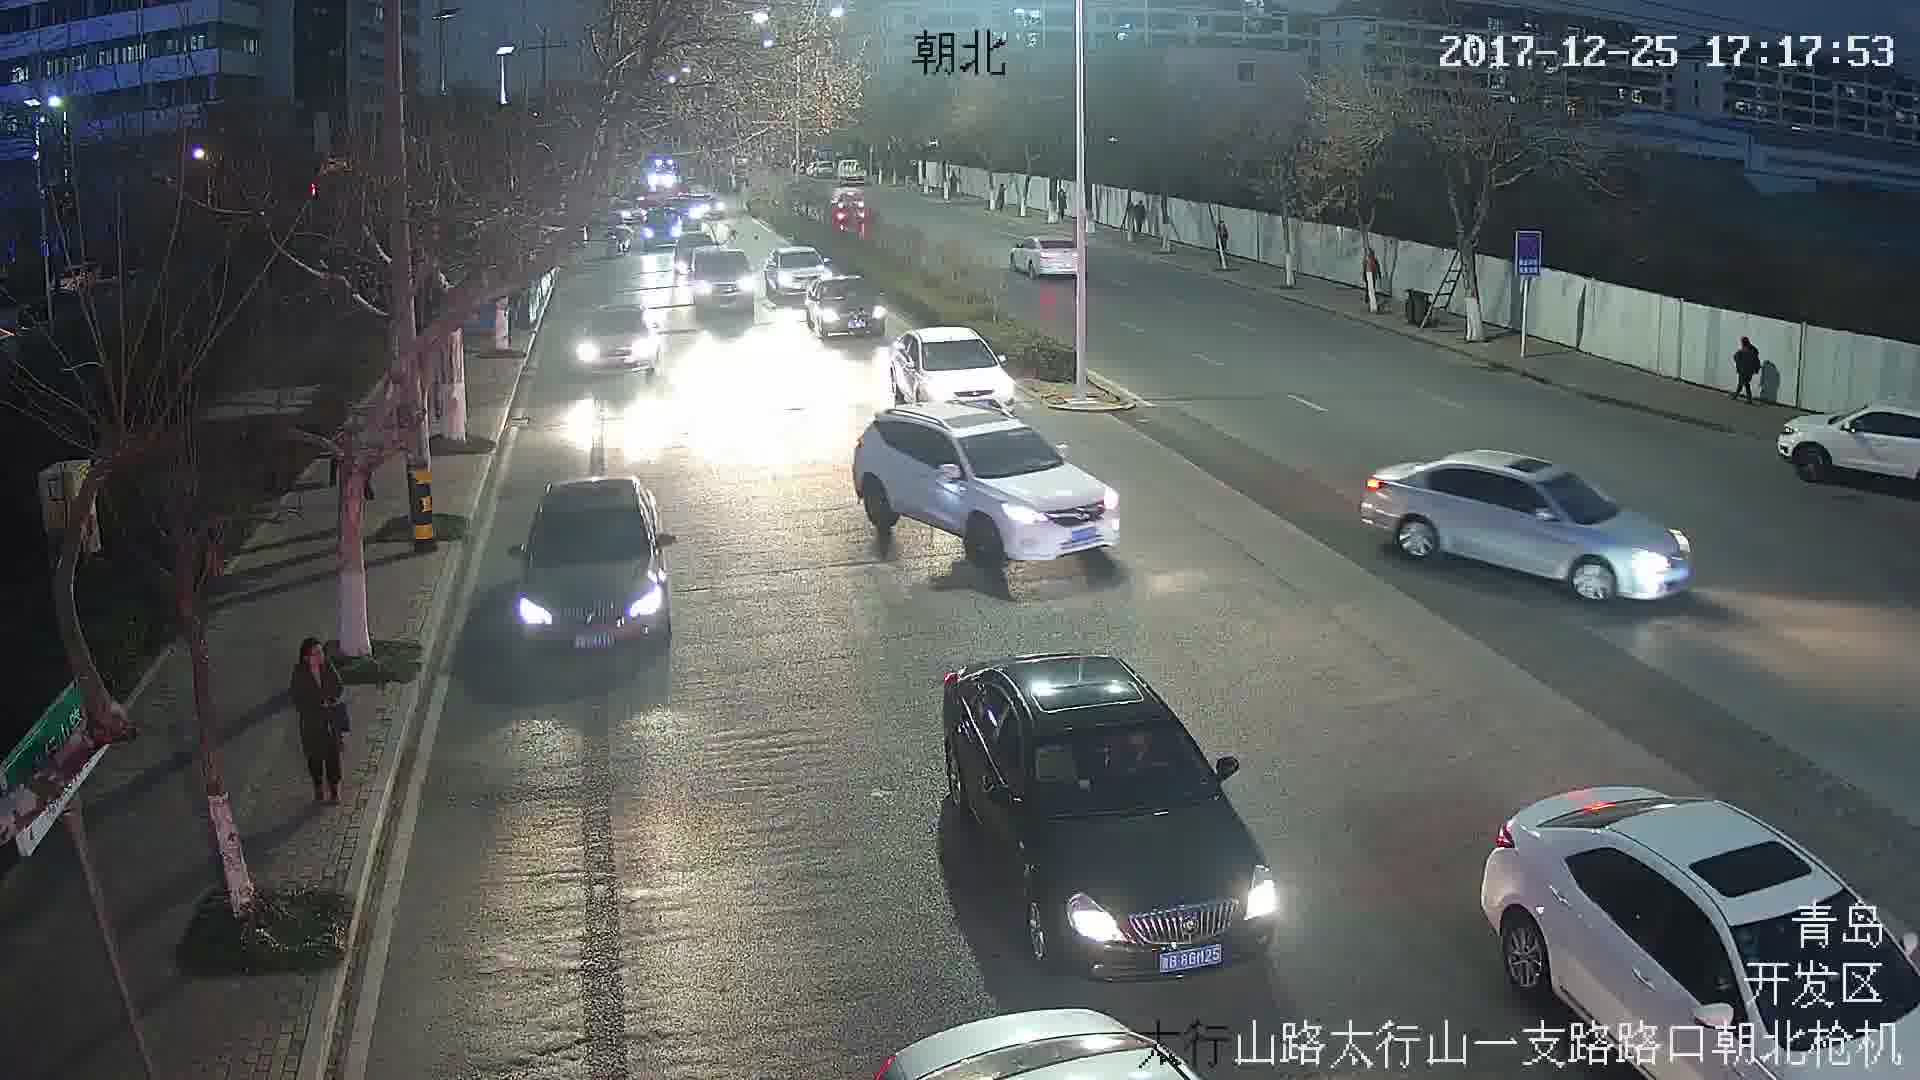car: (938, 657, 1280, 975), (1352, 444, 1696, 607), (859, 409, 1127, 564), (509, 475, 680, 659), (898, 331, 1016, 412), (578, 300, 664, 373), (809, 275, 882, 334), (692, 250, 756, 317)
person: (291, 635, 355, 802), (1727, 338, 1760, 405)
